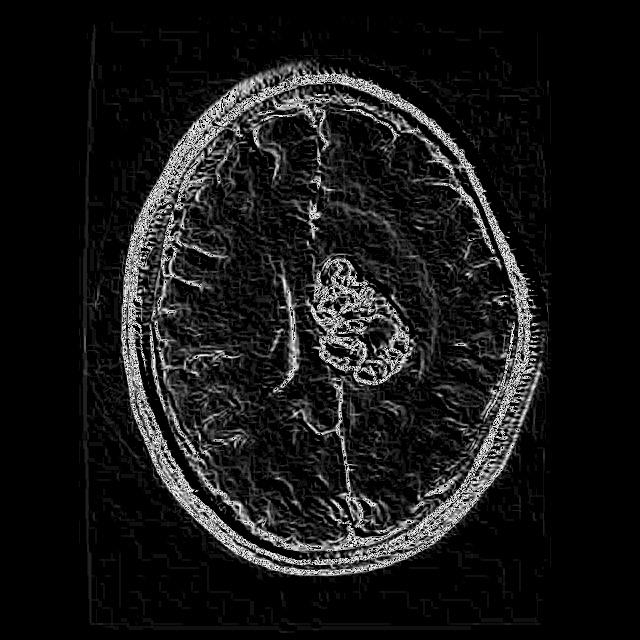Brain-Tumor: (300, 245, 427, 395)
